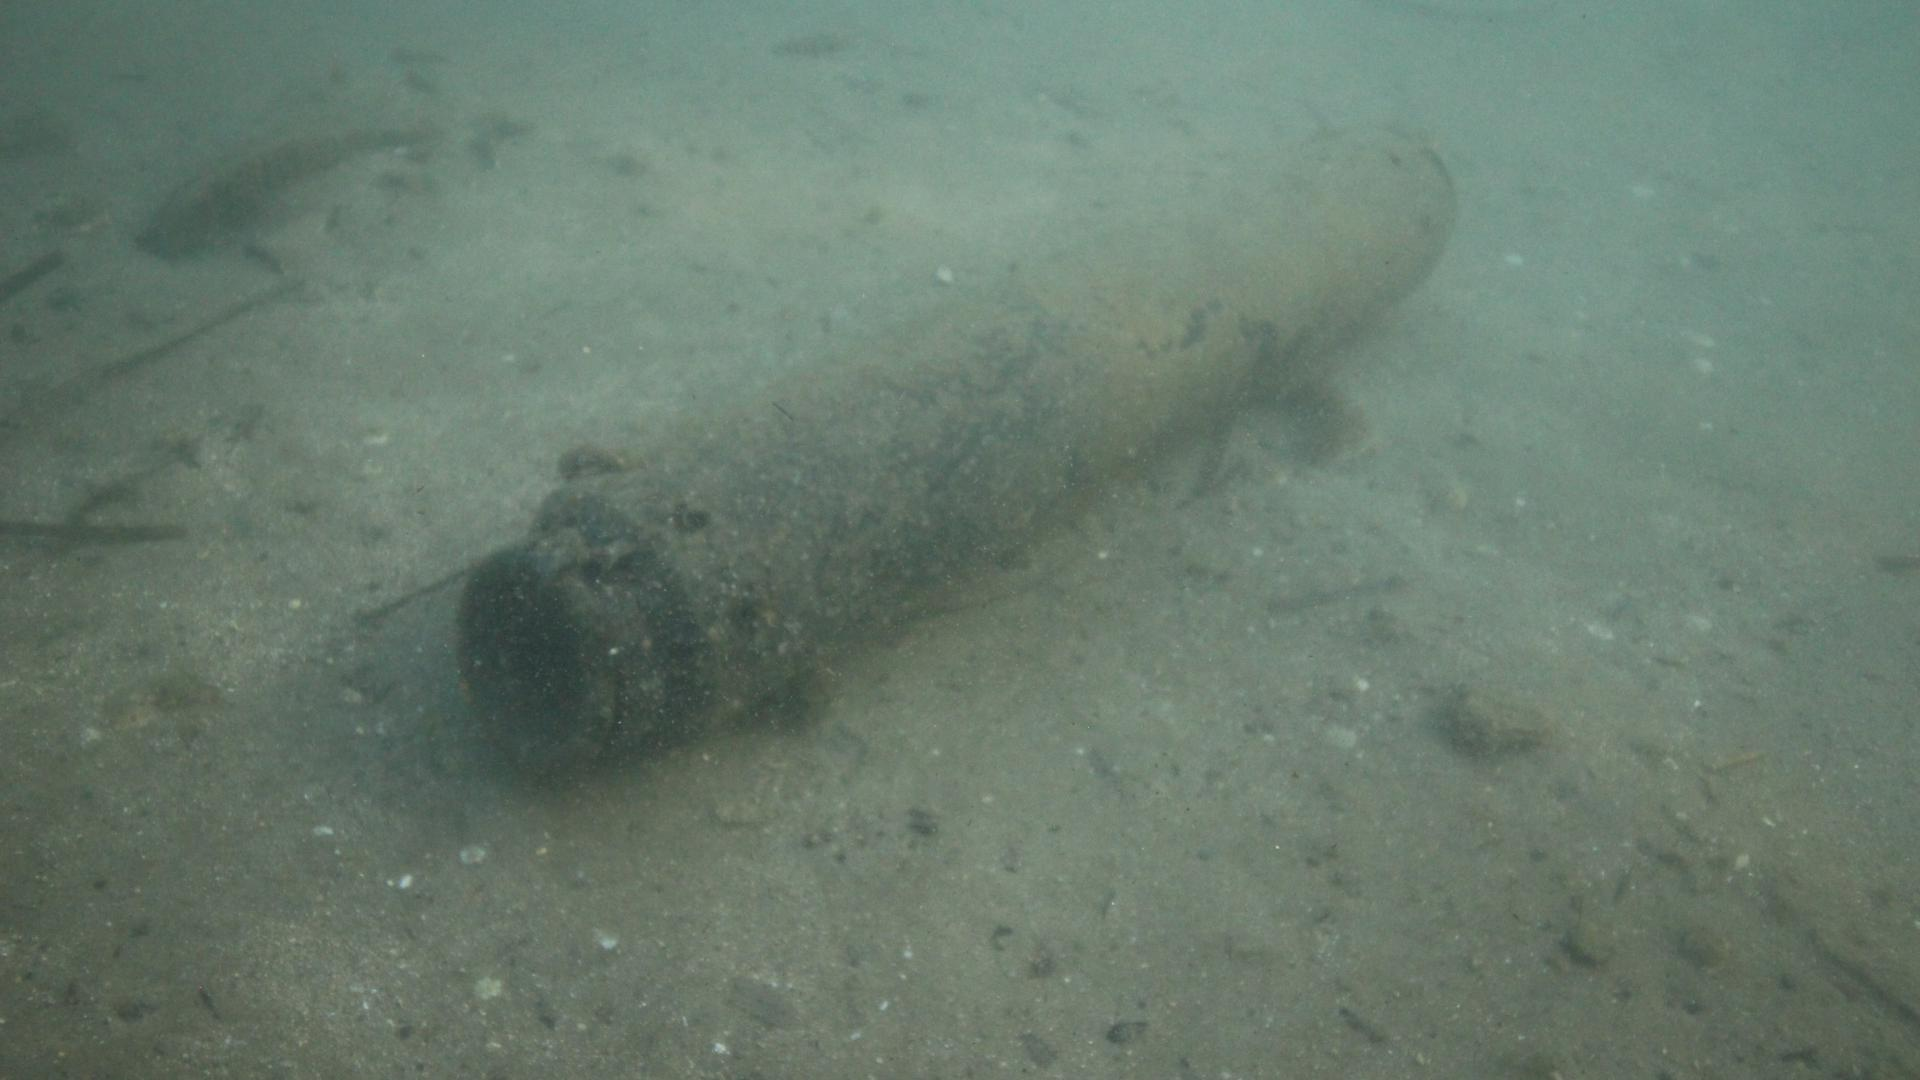eel fish trap: (458, 129, 1462, 775)
